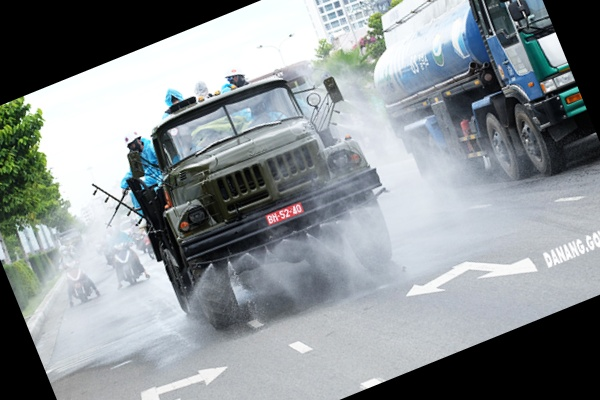plate: (267, 201, 305, 227)
